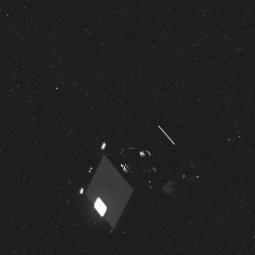proba_3_csc: (66, 120, 210, 240)
